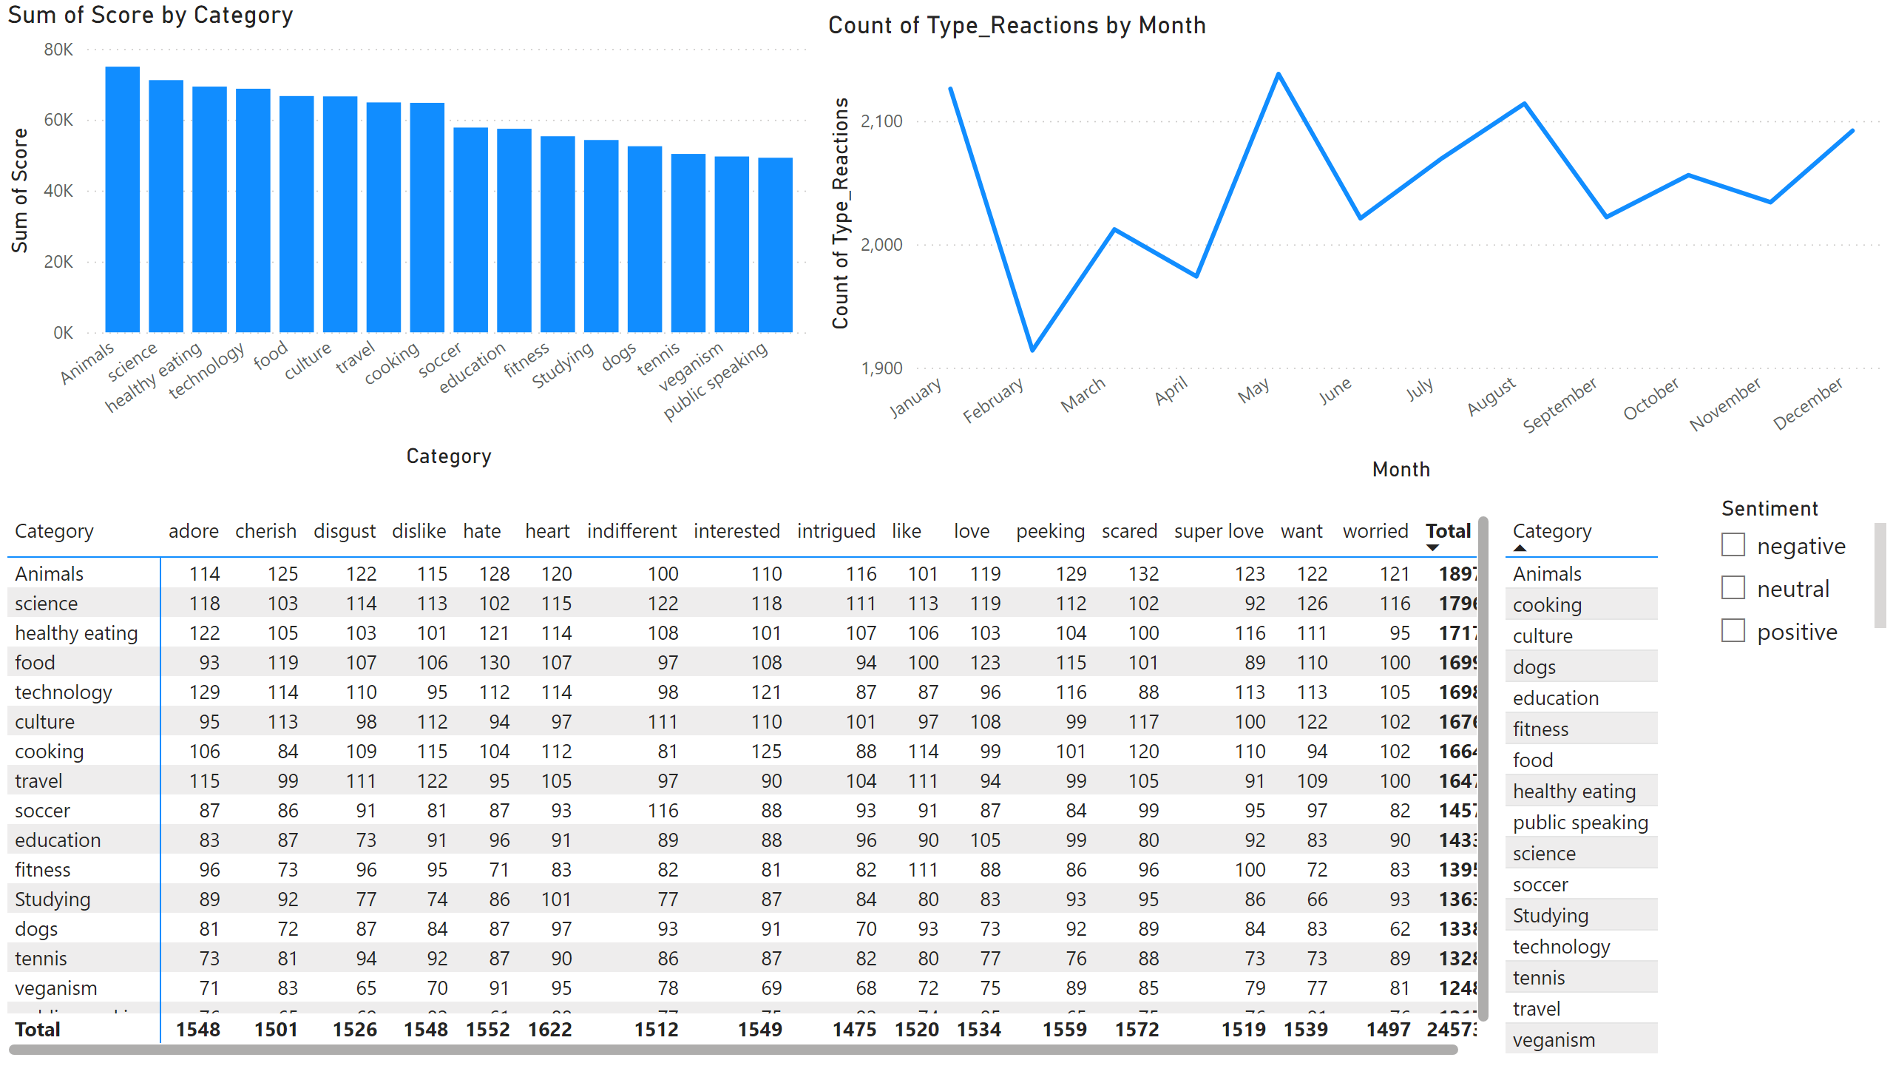

The page's visual inventory and layout, read from the dashboard file:
{"tool":"powerbi","page":{"name":"Page 1","canvas":[1280,720],"ordinal":0},"visuals":[{"type":"columnChart","fields":{"Category":["Final Data.Category"],"Y":["Sum(Final Data.Score)"]},"box":[0,0,553.7,321.5],"z":0},{"type":"tableEx","fields":{"Values":["Final Data.Category"]},"box":[1050.8,360.2,229.2,320],"z":1},{"type":"lineChart","fields":{"Category":["Final Data.Datetime.Variation.Date Hierarchy.Month"],"Y":["CountNonNull(Final Data.Type_Reactions)"]},"box":[555.2,7.4,724.8,323],"z":3},{"type":"slicer","fields":{"Values":["Final Data.Sentiment"]},"box":[498.6,345.3,187.5,111.6],"z":4}]}

Visuals, with their boxes in screenshot pixels (x1, y1, x2, y2), scaled from the page's 1280x720 canvas onto the 1894x1080 screenshot:
columnChart - Final Data.Category x Sum(Final Data.Score): x1=0, y1=0, x2=819, y2=482
tableEx - Final Data.Category: x1=1555, y1=540, x2=1893, y2=1020
lineChart - Final Data.Datetime.Variation.Date Hierarchy.Month x CountNonNull(Final Data.Type_Reactions): x1=822, y1=11, x2=1893, y2=496
slicer - Final Data.Sentiment: x1=738, y1=518, x2=1015, y2=685
